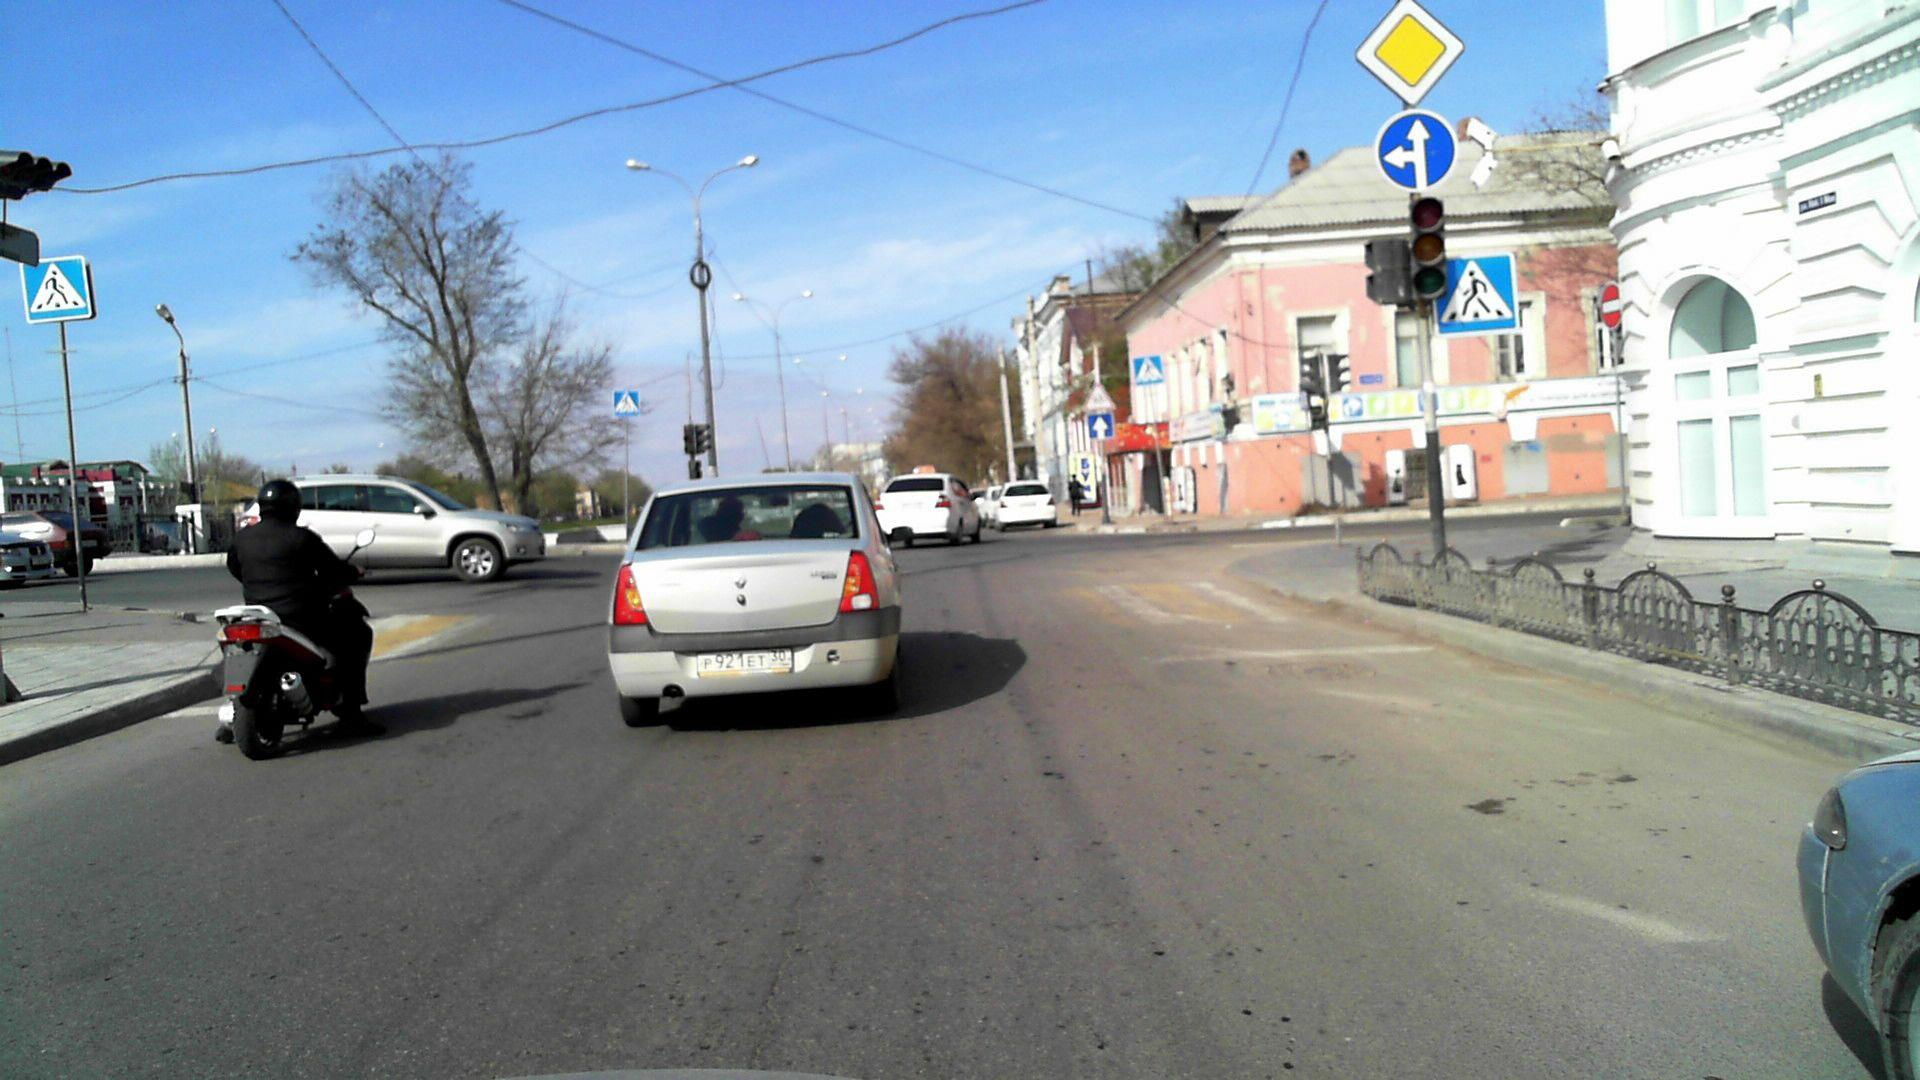2_1: (1356, 0, 1466, 107)
3_1: (1597, 285, 1627, 327)
4_1_5: (1374, 112, 1452, 191)
5_19_1: (1429, 248, 1520, 332), (1127, 356, 1166, 388)
5_19_2: (20, 255, 100, 330), (609, 388, 640, 414)
5_5: (1087, 413, 1114, 442)
